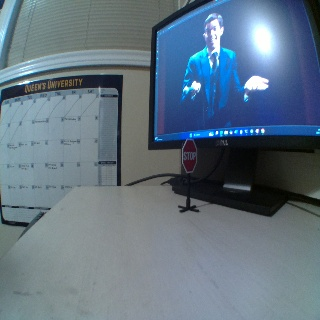sign_stop: (181, 139, 197, 173)
